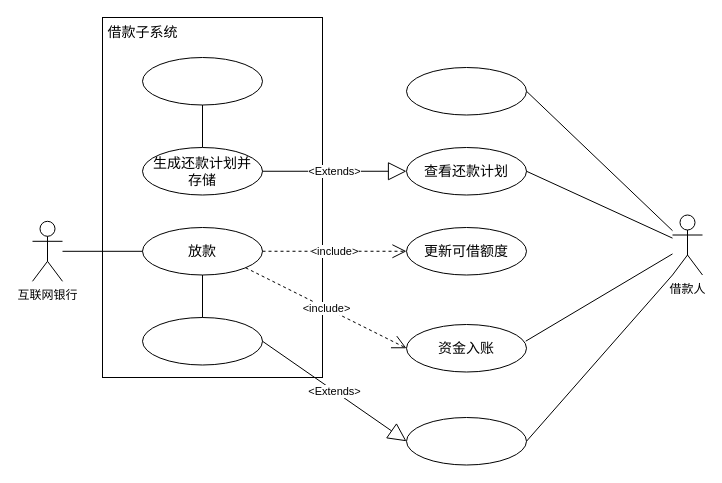
The diagram is 722 pixels wide and 483 high, and some of its shapes have lost their labels. The centre of each missing label's shape, as x and y in pixels:
"借款试算" goes at pixel 202 80.
"查看借据详情" goes at pixel 466 440.
"生成借据详情并 存储" goes at pixel 202 340.
"签订合同" goes at pixel 466 90.
